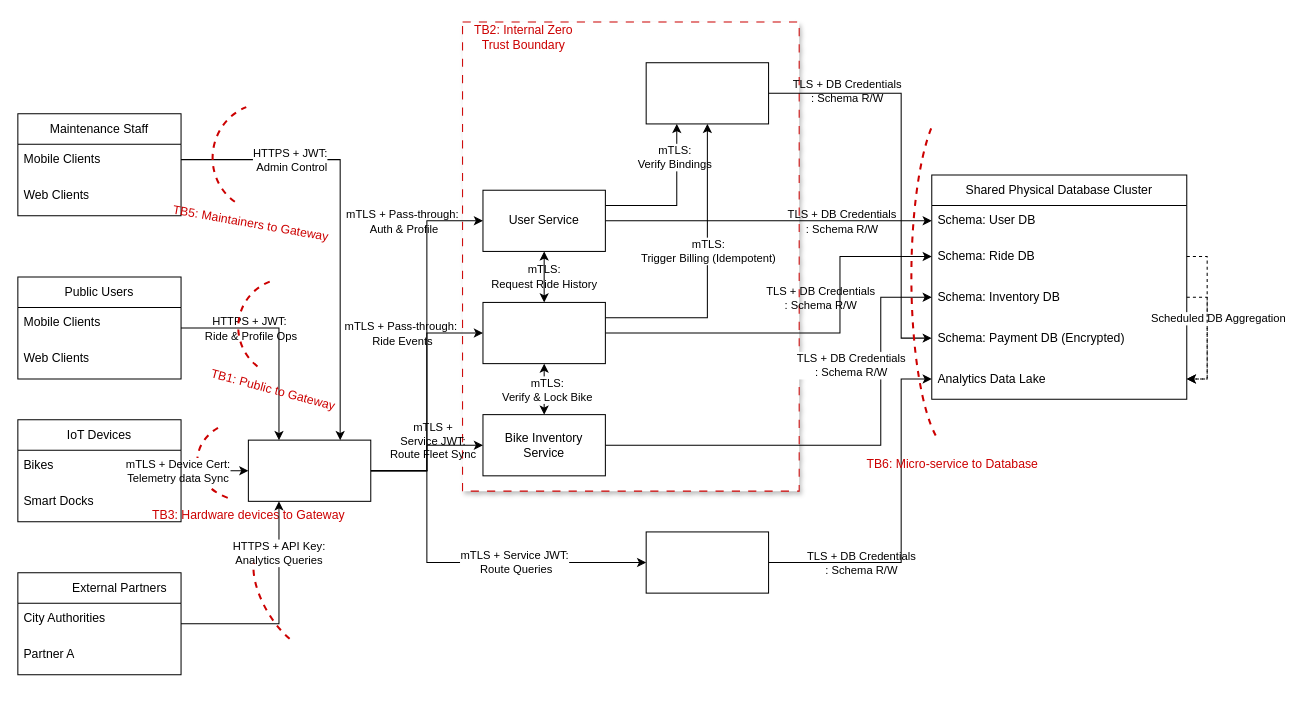
The diagram is 1303 pixels wide and 717 high, and some of its shapes have lost their labels. The centre of each missing label's shape, as x and y in pixels:
API Gateway: [309,470]
Partner Analytics Service: [707,562]
Payment Service: [707,93]
Ride Service: [543,332]
TB4: Partne to Gatewayr: [288,597]
